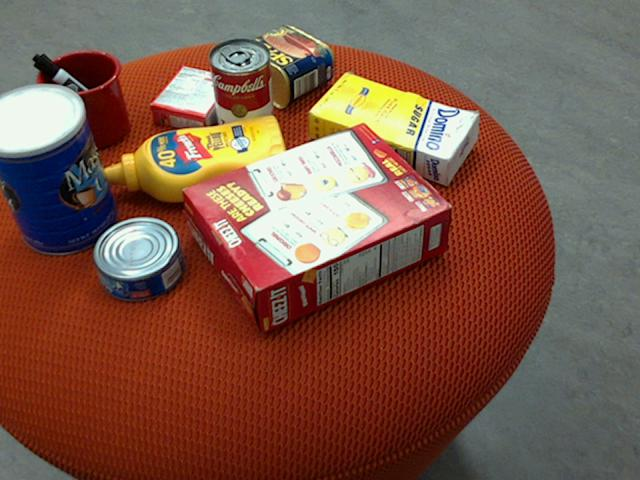cracker_box: (182, 121, 452, 332)
gelatin_box: (149, 65, 238, 133)
large_marker: (32, 54, 126, 131)
master_chef_can: (0, 84, 118, 255)
mug: (24, 51, 129, 150)
mustard_bottle: (105, 115, 289, 202)
potted_meat_can: (230, 26, 334, 109)
sugar_box: (308, 73, 481, 183)
tomato_soup_can: (209, 37, 274, 145)
tuna_fish_can: (93, 217, 185, 302)
